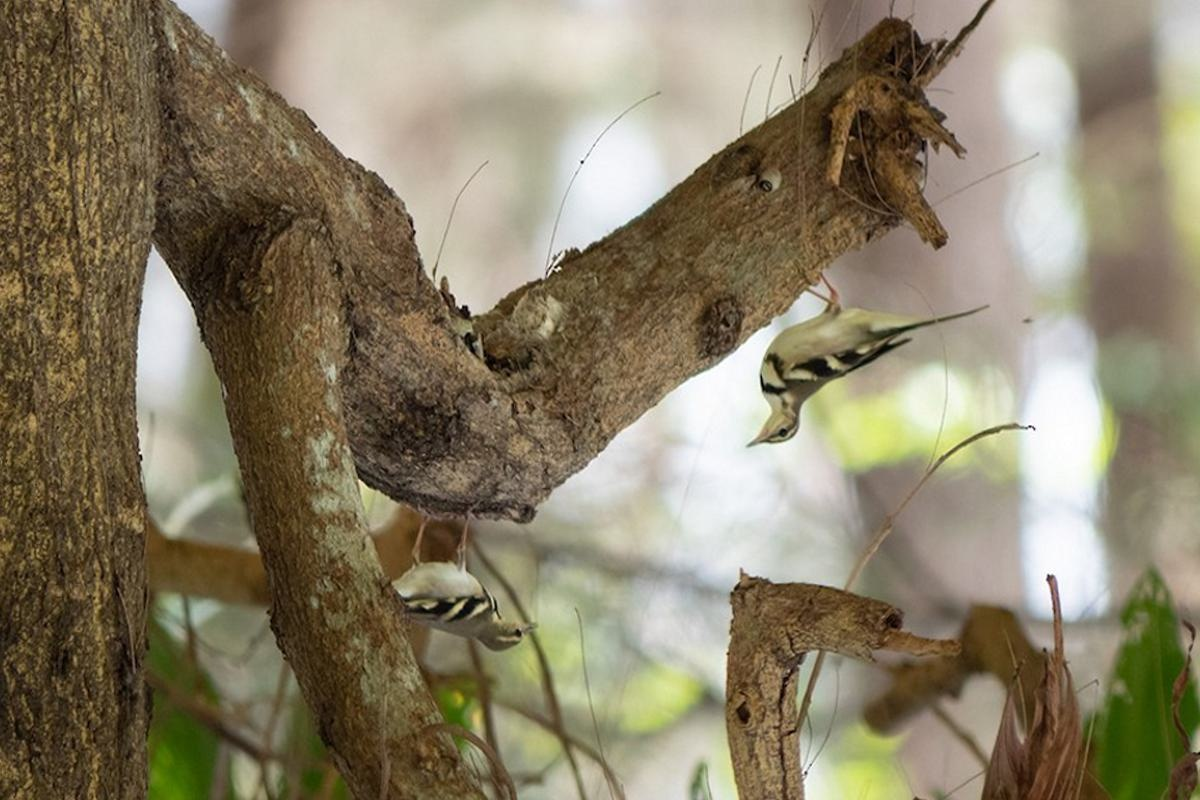wagtail: (741, 286, 960, 452), (388, 521, 547, 655)
